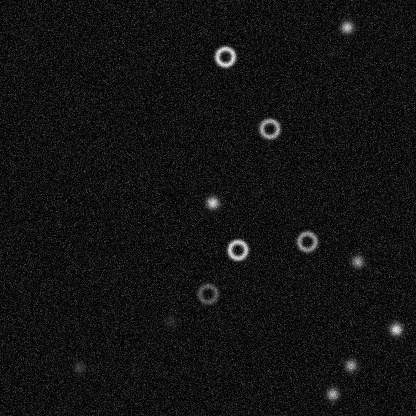Ring: (294, 229, 318, 253), (225, 237, 249, 261), (195, 281, 219, 305), (213, 44, 237, 68), (257, 116, 281, 140)
Spot: (324, 385, 340, 401), (387, 321, 403, 337), (342, 357, 358, 373), (162, 313, 178, 329), (338, 19, 354, 35), (349, 253, 365, 269), (70, 359, 86, 375), (204, 194, 220, 210)
